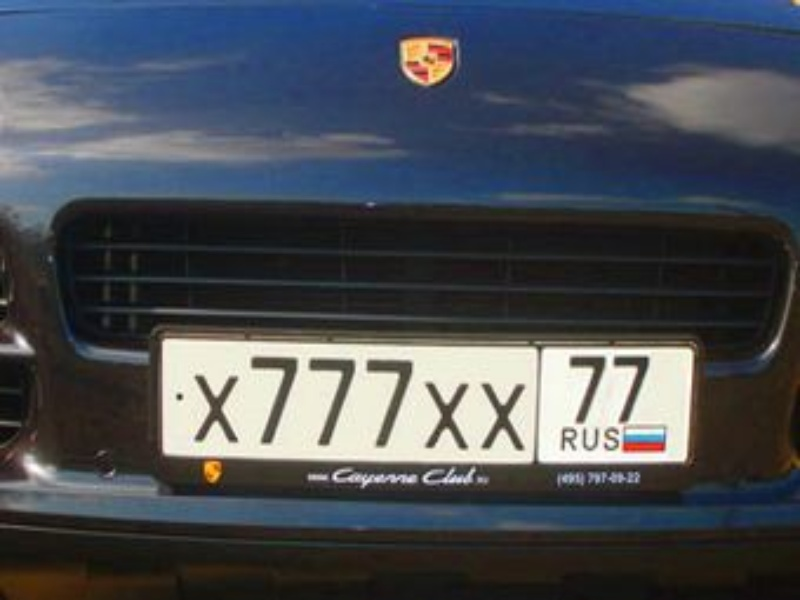plate: (163, 338, 686, 461)
